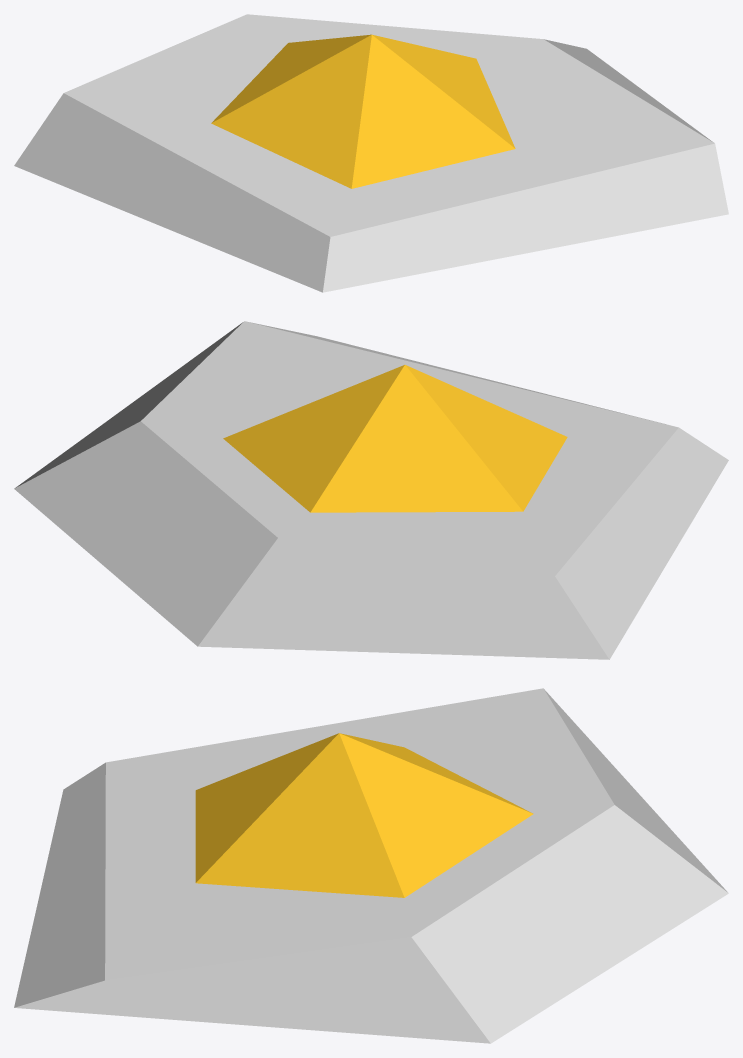
The model's file is tribal-egg-fried.glb.
3 renders of one model, top to bottom at view 1: azimuth 30°, elevation 25°; view 2: azimuth 150°, elevation 25°; view 3: azimuth 270°, elevation 25°, orthographic. The views are drawn at different scales.
Parts seen in each view (by area): view 1: SM_Egg_Fried; view 2: SM_Egg_Fried; view 3: SM_Egg_Fried.
Boxes of the visible parts, bbox=[...] form: SM_Egg_Fried: bbox=[14, 14, 728, 292]; SM_Egg_Fried: bbox=[14, 321, 728, 659]; SM_Egg_Fried: bbox=[14, 688, 728, 1043].
Bounding box in the file's own units: 0.2968 × 0.0672 × 0.2876.
